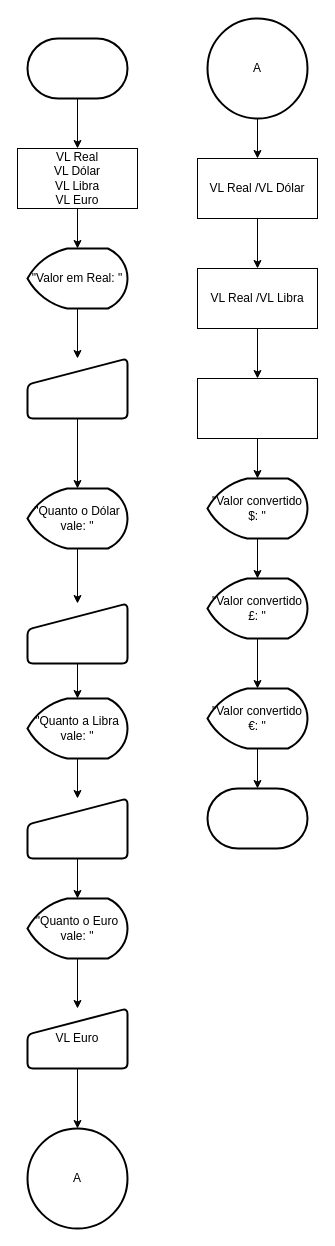
This 335x1246 diagram has some shape labels left out. The box of each missing label's shape, as (x1, y1, x2, y2) in pixels:
Fim: (206, 787, 308, 849)
inicio: (26, 37, 128, 99)
VL Dólar: (26, 602, 128, 664)
VL Libra: (26, 797, 128, 859)
VL Real: (26, 357, 128, 419)
VL Real /VL Euro: (196, 378, 318, 438)
